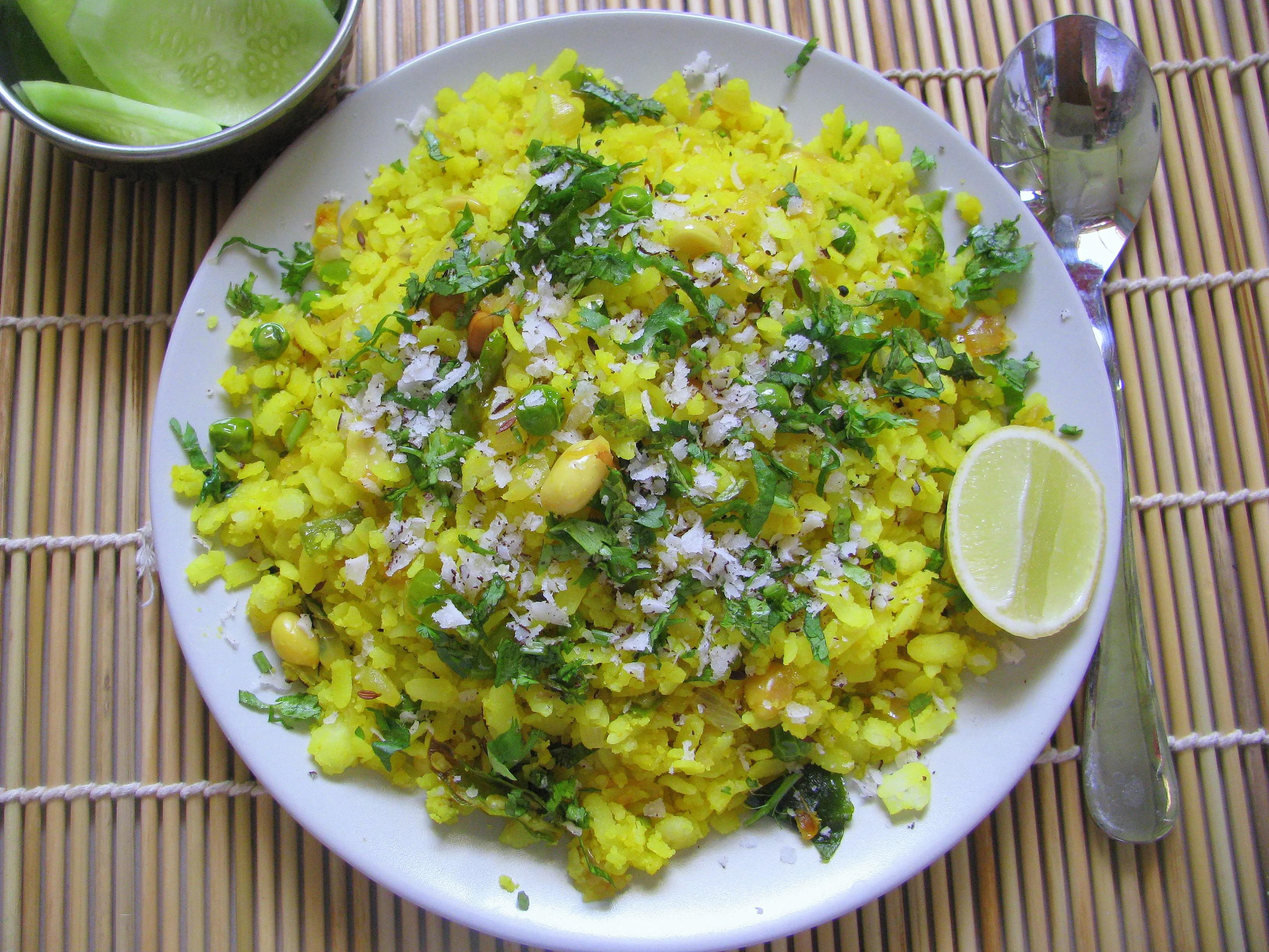Poha: (183, 39, 1104, 916)
